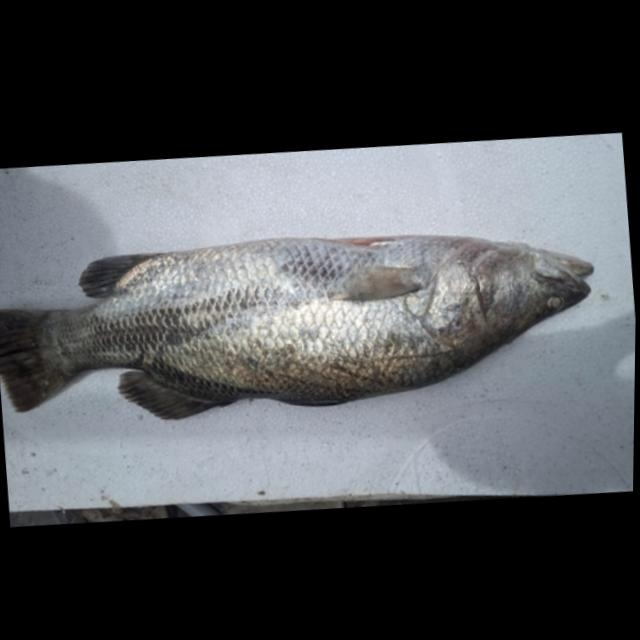Seabass: (0, 202, 603, 450)
